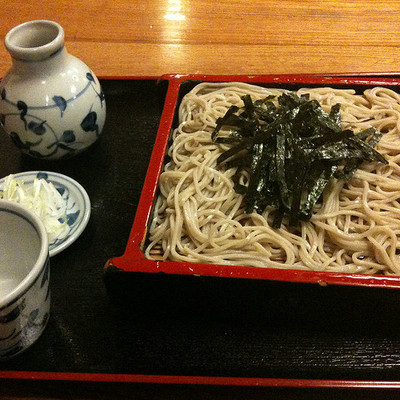Soba: (151, 78, 400, 277)
